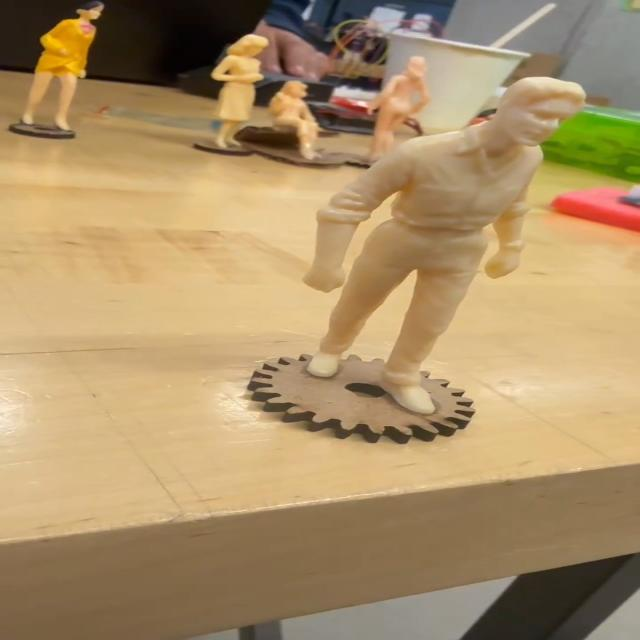Unauthorized: (302, 67, 596, 421)
